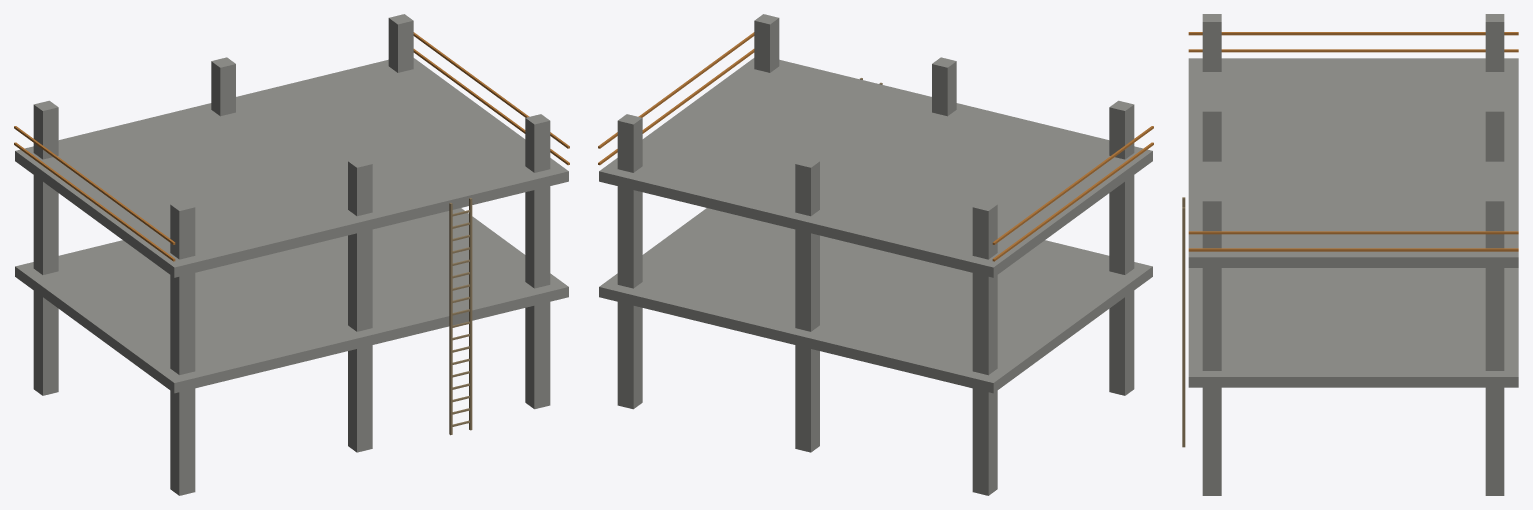
Rendered from concrete_frame_2f.glb.
3 renders of one model, left to right at view 1: azimuth 30°, elevation 25°; view 2: azimuth 150°, elevation 25°; view 3: azimuth 270°, elevation 25°, orthographic. The views are drawn at different scales.
Visible parts, largest first — view 1: slab.001, slab, column, column.004, column.002, column.001, rebar_stub.005, rebar_stub, rebar_stub.004, rebar_stub.002, rebar_stub.001, rebar_stub.003 (+6 smaller); view 2: slab.001, slab, column.001, column.005, column.003, column, rebar_stub.004, rebar_stub.001, rebar_stub.005, rebar_stub.003, rebar_stub.002, rebar_stub (+4 smaller); view 3: slab.001, slab, column.004, column.005, edge_rail.003, edge_rail.002, edge_rail, edge_rail.001, rebar_stub.003, rebar_stub.002, rebar_stub, rebar_stub.001 (+3 smaller).
Boxes of the visible parts, bbox=[...] form: slab.001: bbox=[15, 58, 568, 277]; slab: bbox=[15, 208, 568, 393]; column: bbox=[170, 250, 195, 495]; column.004: bbox=[525, 164, 550, 409]; column.002: bbox=[348, 207, 372, 452]; column.001: bbox=[33, 150, 58, 395]; rebar_stub.005: bbox=[388, 14, 413, 72]; rebar_stub: bbox=[170, 200, 195, 259]; rebar_stub.004: bbox=[525, 114, 550, 172]; rebar_stub.002: bbox=[348, 157, 372, 213]; rebar_stub.001: bbox=[33, 100, 58, 157]; rebar_stub.003: bbox=[211, 57, 235, 115]; slab.001: bbox=[599, 58, 1152, 277]; slab: bbox=[599, 208, 1152, 393]; column.001: bbox=[972, 250, 997, 495]; column.005: bbox=[617, 163, 642, 409]; column.003: bbox=[795, 207, 819, 452]; column: bbox=[1109, 150, 1134, 395]; rebar_stub.004: bbox=[754, 14, 779, 72]; rebar_stub.001: bbox=[972, 200, 997, 258]; rebar_stub.005: bbox=[617, 114, 642, 172]; rebar_stub.003: bbox=[795, 157, 819, 215]; rebar_stub.002: bbox=[932, 57, 956, 115]; rebar_stub: bbox=[1109, 100, 1134, 158]; slab.001: bbox=[1188, 58, 1518, 267]; slab: bbox=[1188, 268, 1518, 387]; column.004: bbox=[1202, 268, 1221, 495]; column.005: bbox=[1485, 268, 1504, 495]; edge_rail.003: bbox=[1188, 248, 1518, 251]; edge_rail.002: bbox=[1188, 231, 1518, 234]; edge_rail: bbox=[1188, 32, 1518, 35]; edge_rail.001: bbox=[1188, 49, 1518, 52]; rebar_stub.003: bbox=[1485, 103, 1504, 160]; rebar_stub.002: bbox=[1202, 103, 1221, 160]; rebar_stub: bbox=[1202, 14, 1221, 71]; rebar_stub.001: bbox=[1485, 14, 1504, 71].
Size of what is drawn, in the model's own units: 10.05 by 6.9 by 7.13.
